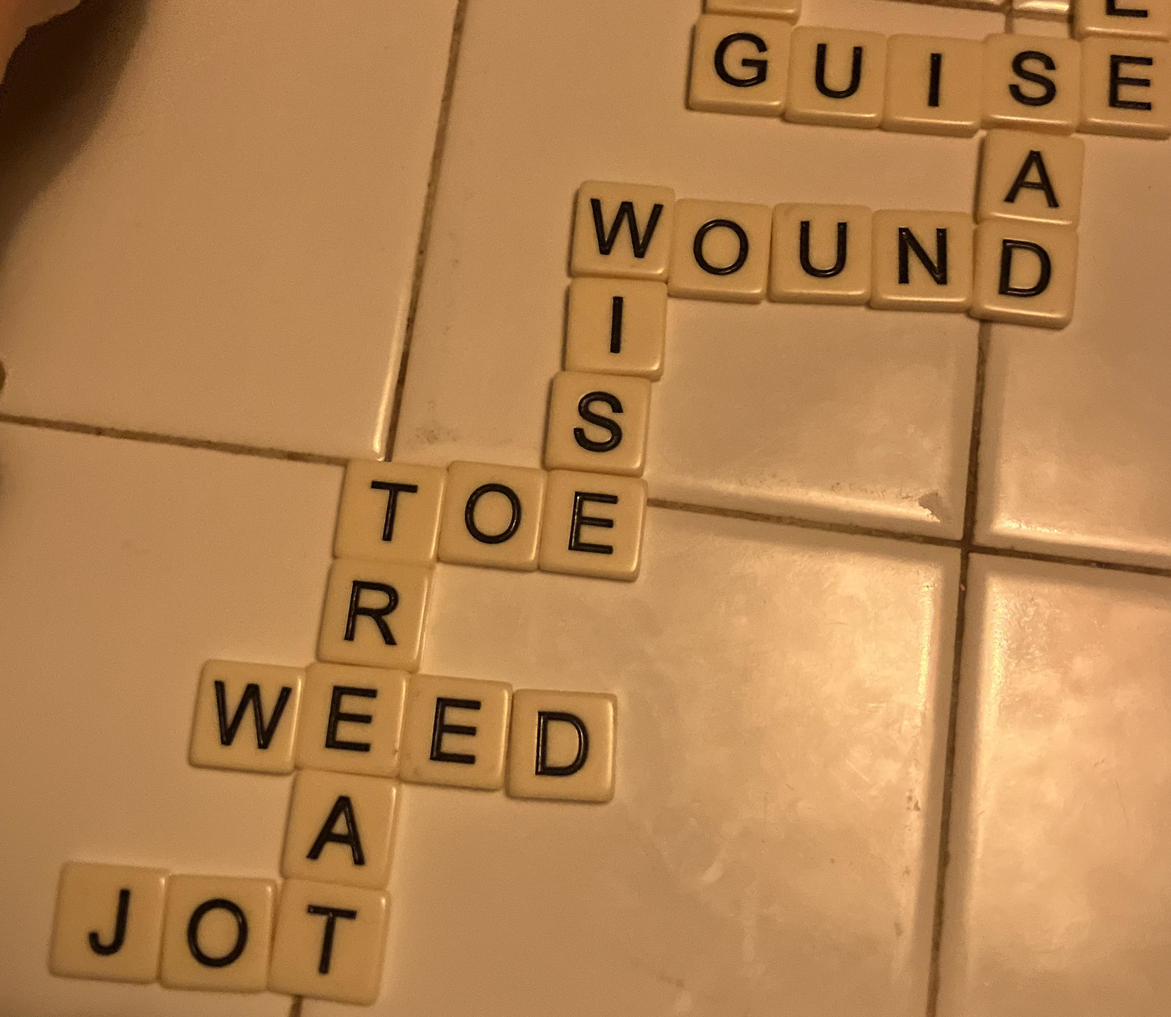Tile: (269, 880, 388, 1005), (49, 861, 167, 982), (159, 875, 277, 992), (282, 770, 397, 889), (188, 660, 304, 773), (317, 558, 432, 671), (294, 662, 406, 776), (400, 674, 511, 789), (507, 690, 616, 802), (540, 470, 647, 581), (972, 219, 1078, 329), (439, 461, 545, 571), (335, 460, 445, 565), (544, 371, 652, 476), (668, 199, 771, 302), (564, 277, 667, 380), (687, 14, 790, 116), (870, 210, 974, 311), (976, 129, 1084, 226), (768, 204, 872, 304), (570, 180, 673, 280), (785, 26, 885, 127), (882, 34, 981, 136), (983, 35, 1080, 133), (1078, 38, 1171, 139)
